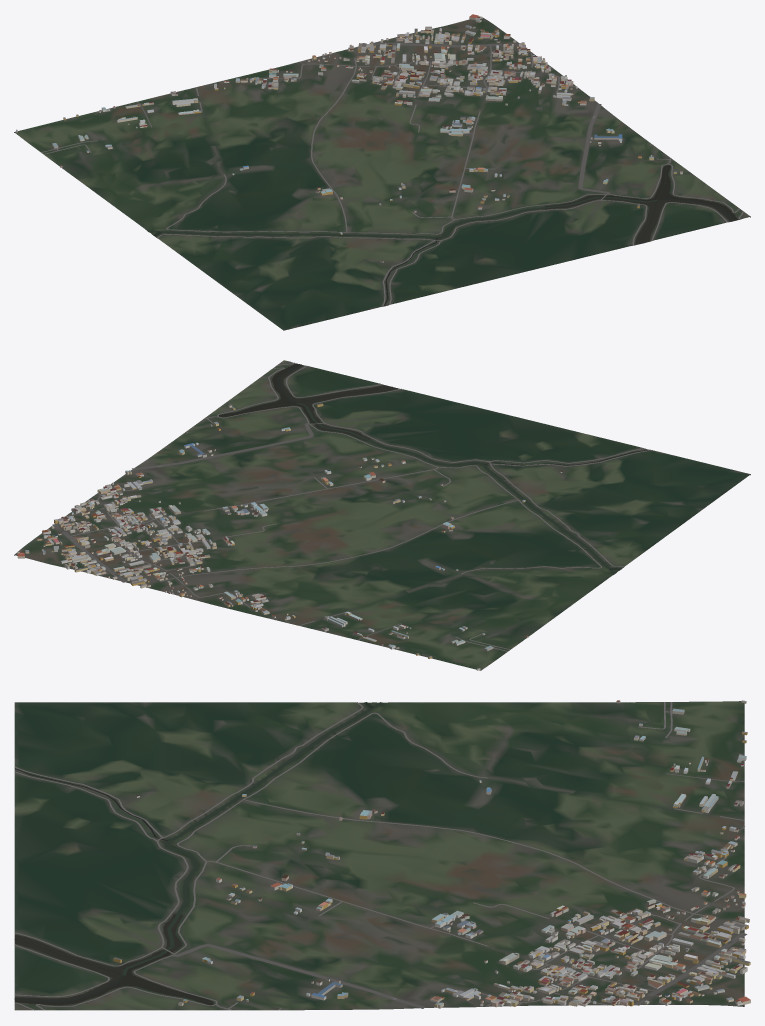
The picture shows the model from 3 angles, top to bottom: view 1: azimuth 30°, elevation 25°; view 2: azimuth 150°, elevation 25°; view 3: azimuth 270°, elevation 25°; orthographic projection. The views are drawn at different scales.
Visible parts, largest first — view 1: ground, buildings, roads, water; view 2: ground, buildings, roads, water; view 3: ground, buildings, roads, water.
Boxes of the visible parts, <box> form: ground: <box>14,18,750,330</box>; buildings: <box>16,14,682,262</box>; roads: <box>41,37,743,306</box>; water: <box>148,165,737,306</box>; ground: <box>14,360,750,670</box>; buildings: <box>17,403,562,670</box>; roads: <box>52,362,652,651</box>; water: <box>219,363,650,573</box>; ground: <box>14,701,744,1010</box>; buildings: <box>113,700,750,1008</box>; roads: <box>14,702,747,1010</box>; water: <box>14,702,383,1005</box>.
Size of the model in its own units: 1406 by 24.86 by 1414.
